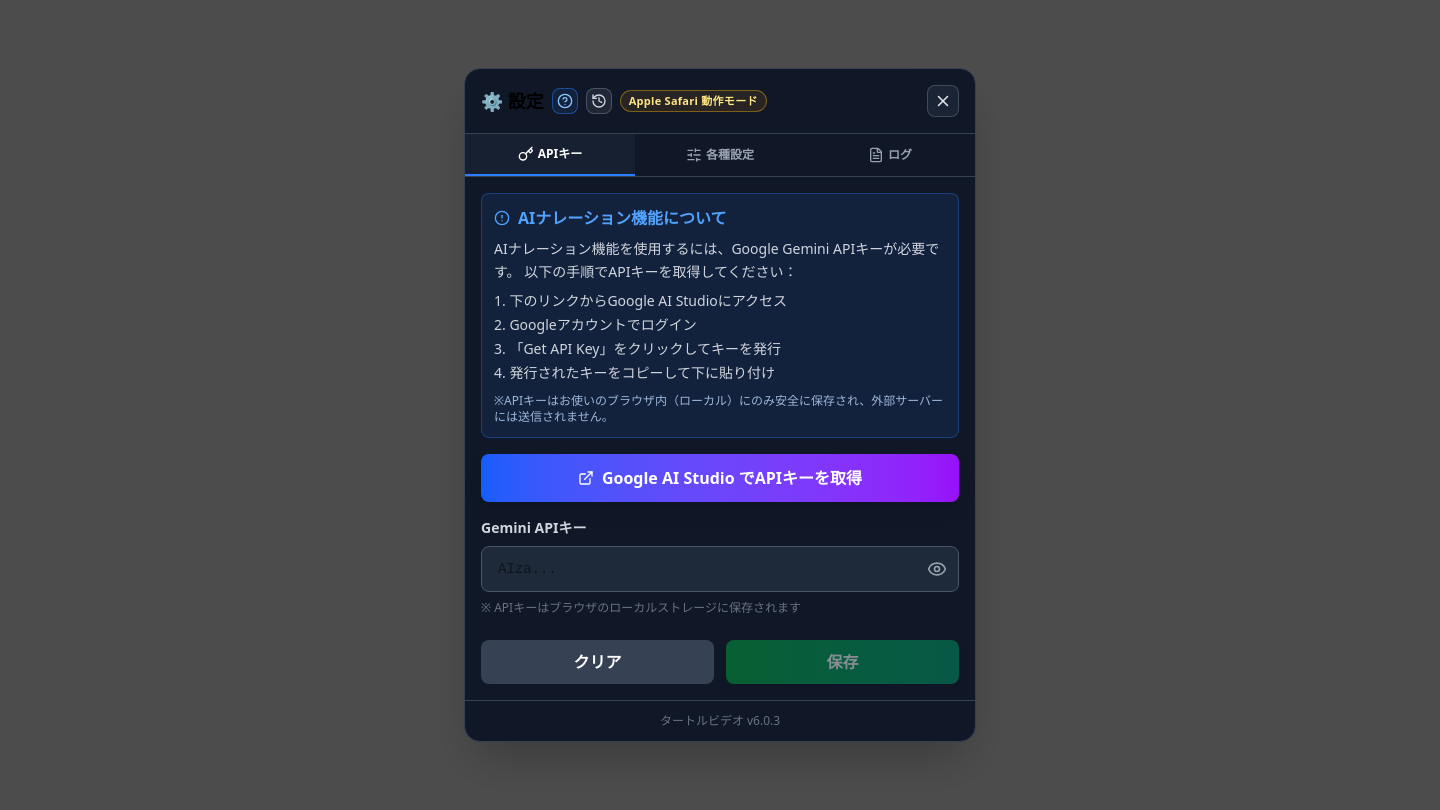
Test case: modal backdrop behavior › apple-safari の各種設定には動画の出力品質を表示しない
Step 1. Click the button "各種設定" → [720, 155], box [635,134,805,176]
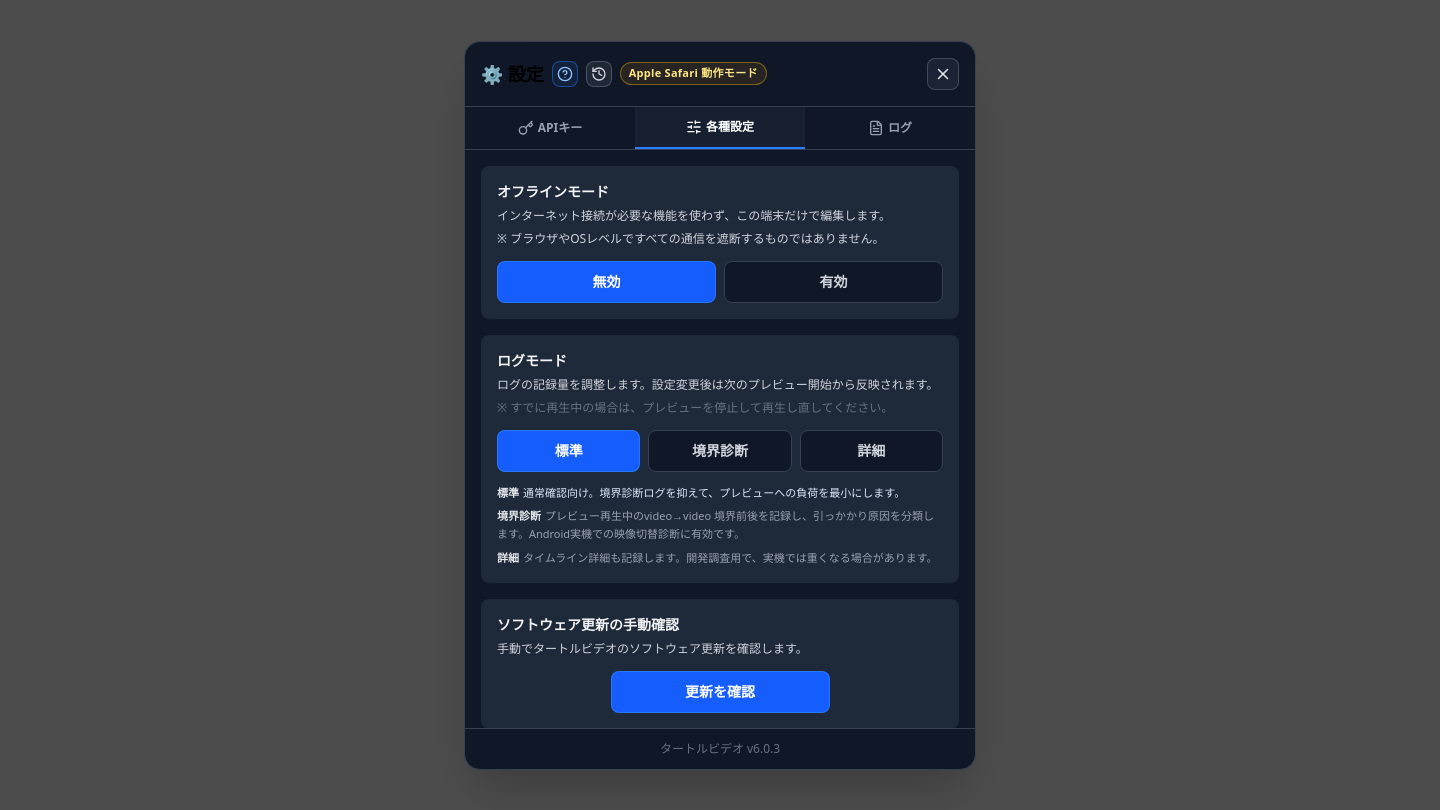
Check: the text "オフラインモード" is shown, box [497,182,609,200]
